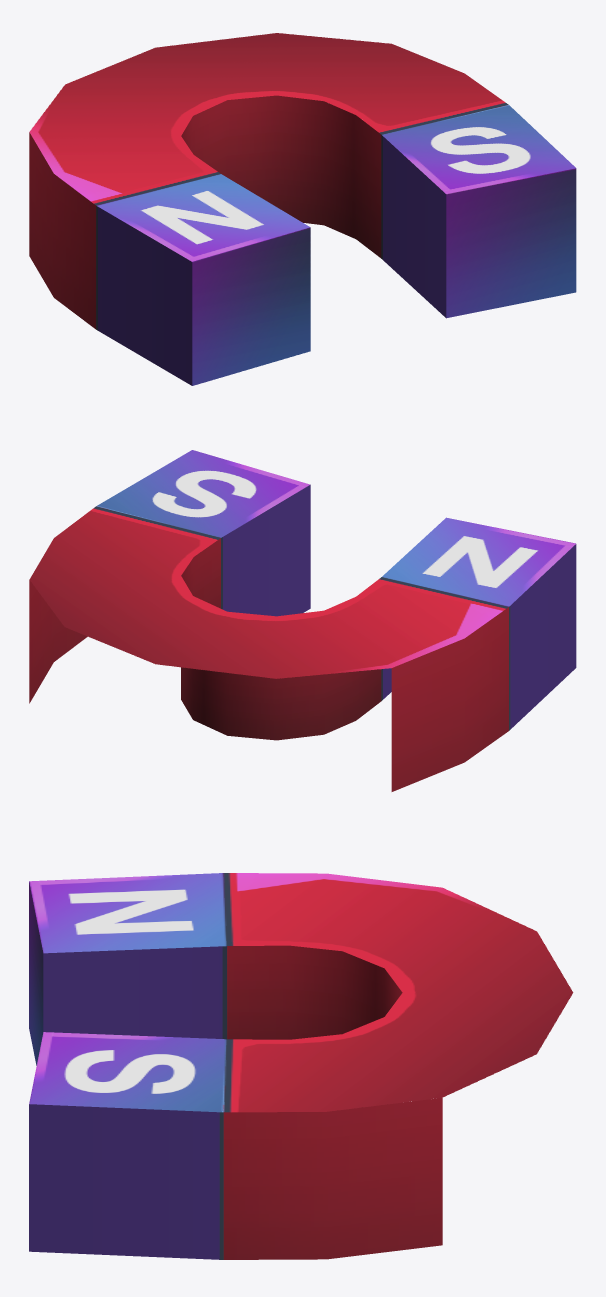
File: item_magnet.FBX
The picture shows the model from 3 angles, top to bottom: view 1: azimuth 30°, elevation 25°; view 2: azimuth 150°, elevation 25°; view 3: azimuth 270°, elevation 25°; orthographic projection. The views are drawn at different scales.
Parts seen in each view (by area): view 1: Box004; view 2: Box004; view 3: Box004.
Boxes of the visible parts, x1=… form: Box004: x1=29, y1=33, x2=576, y2=385; Box004: x1=29, y1=450, x2=576, y2=791; Box004: x1=29, y1=873, x2=573, y2=1259.
Size of the model in its own units: 8.61 by 2.87 by 8.28.
